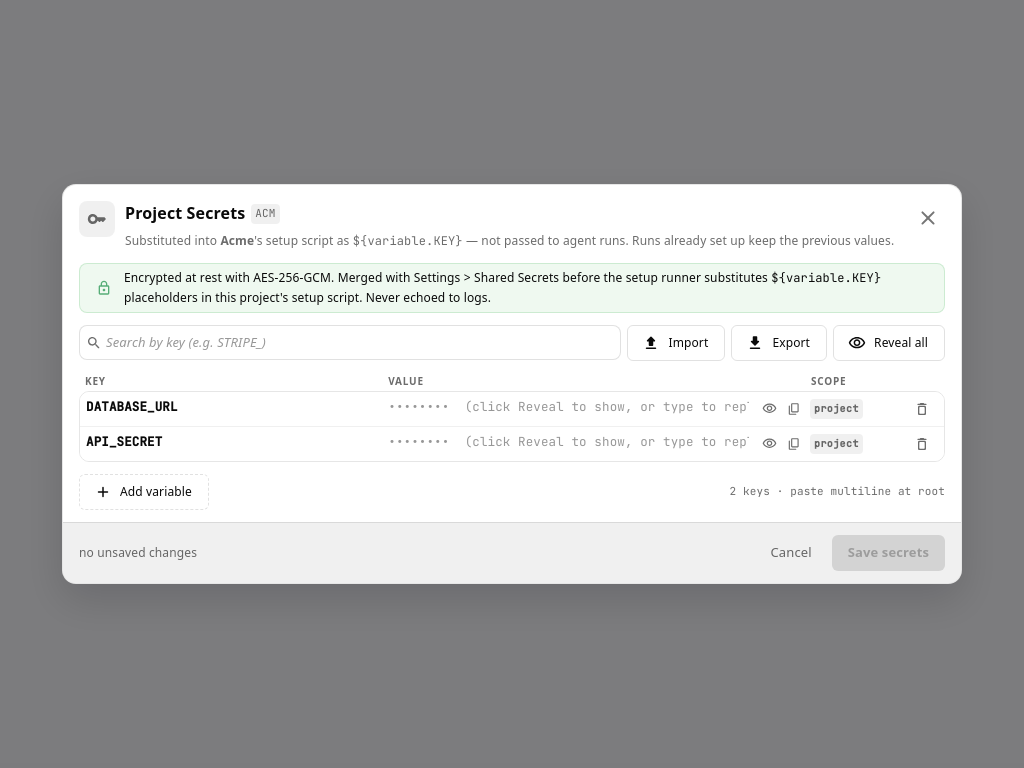
Test case: ProjectEnvSecretsModal — revealing stored secrets › says so when a reveal is refused instead of showing a blank box
Check: the 1st field showing "DATABASE_URL" is shown, box [86,397,384,421]
Click the 1st button named "Reveal" at (770, 409), box [757,396,782,421]
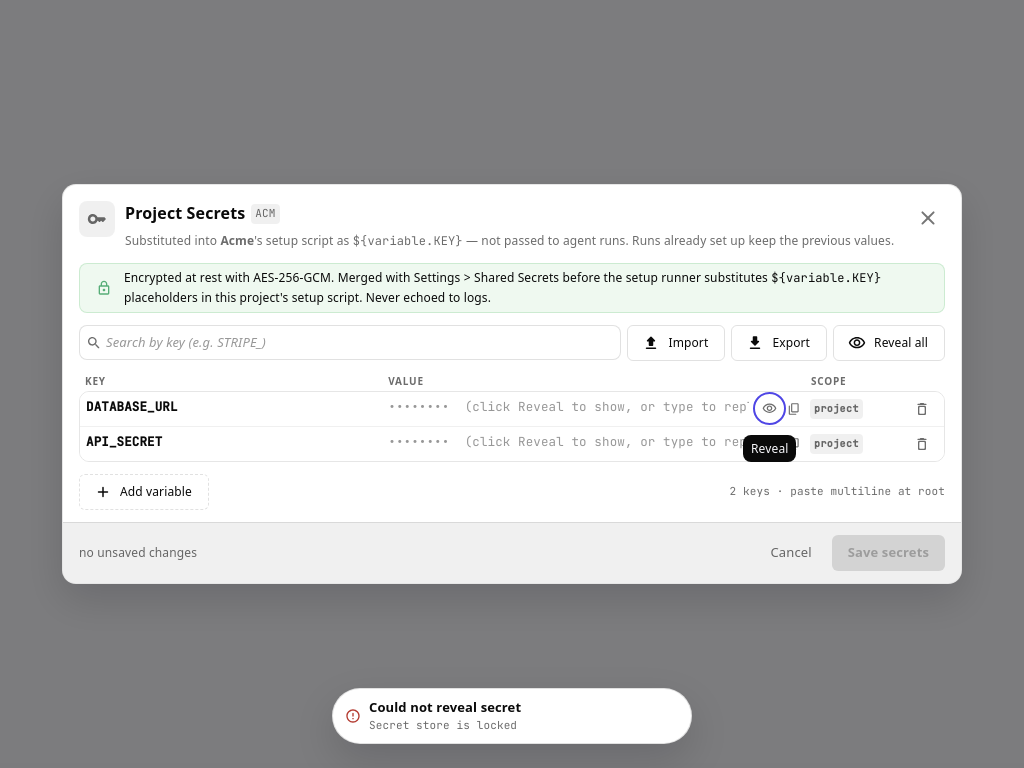
Check: the text "Could not reveal secret" is shown, box [369,698,521,716]
Check: the text "Secret store is locked" is shown, box [369,718,517,732]
